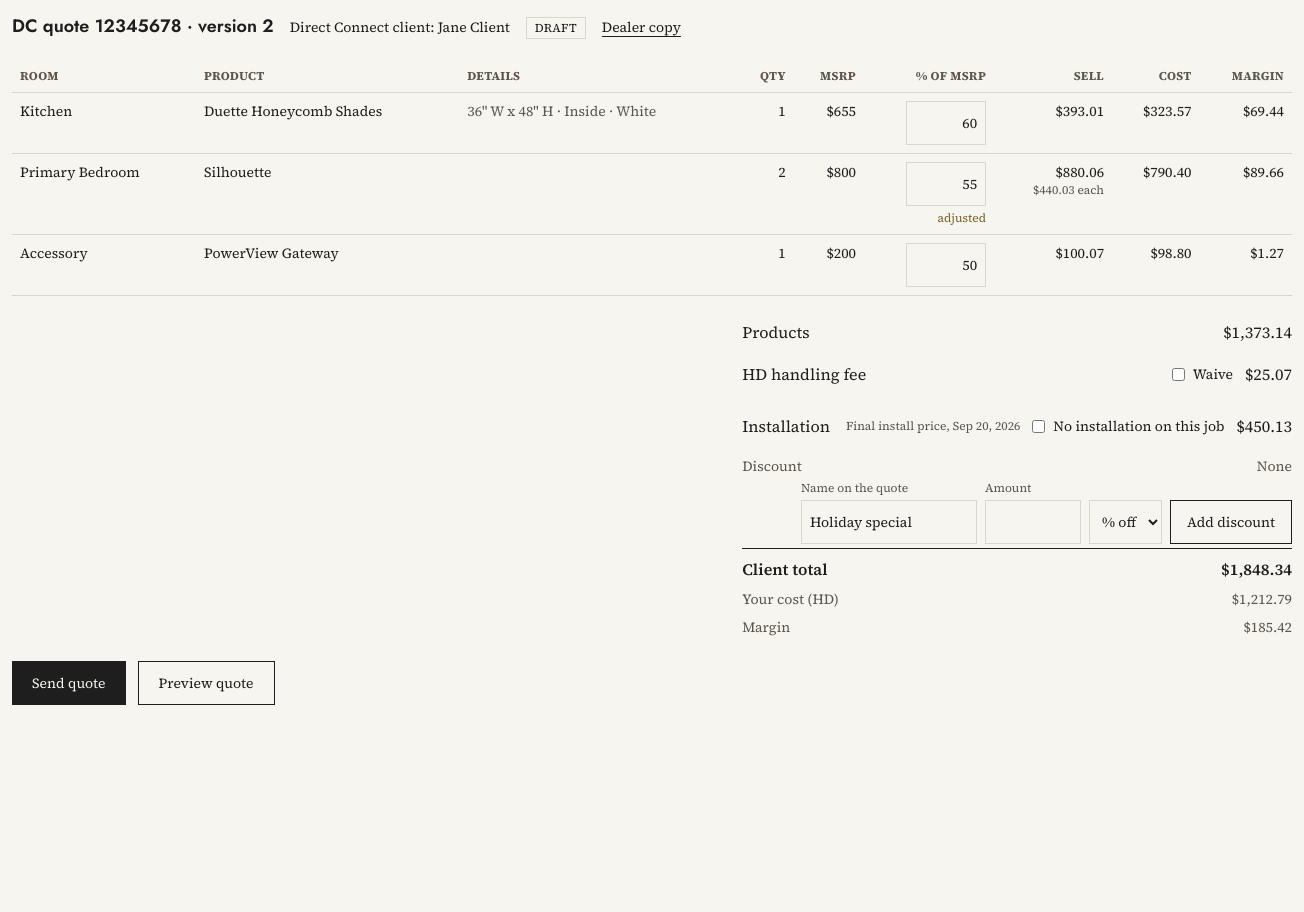
QuoteReview % of MSRP › shows the problem on the line
The width and height of the screenshot is (1304, 912).
Type "abc" into the field named "Line 1 % of MSRP".
click(946, 123); type("abc")  # box left=906, top=101, right=986, bottom=145
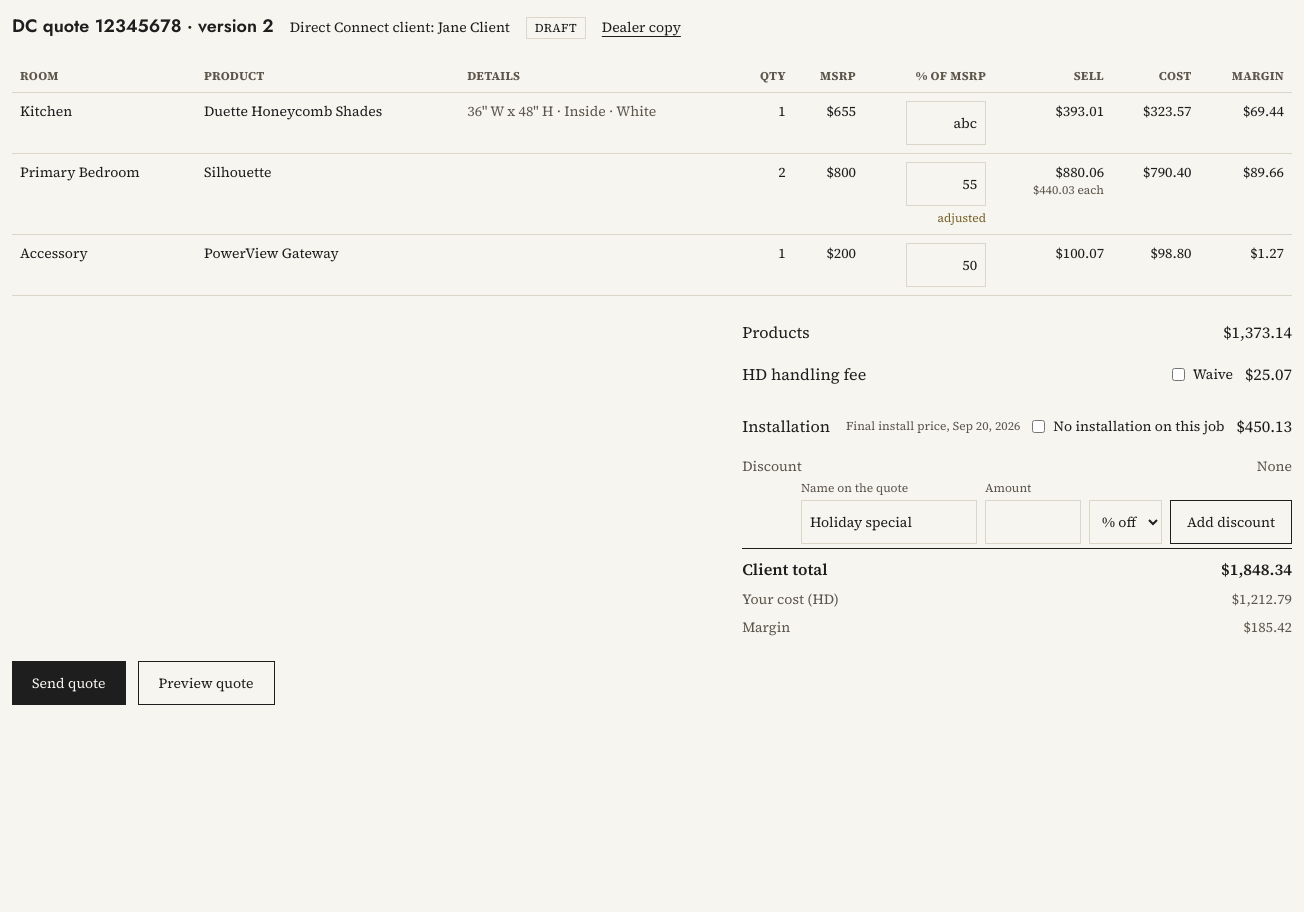
Leave the field named "Line 1 % of MSRP", box left=906, top=101, right=986, bottom=145
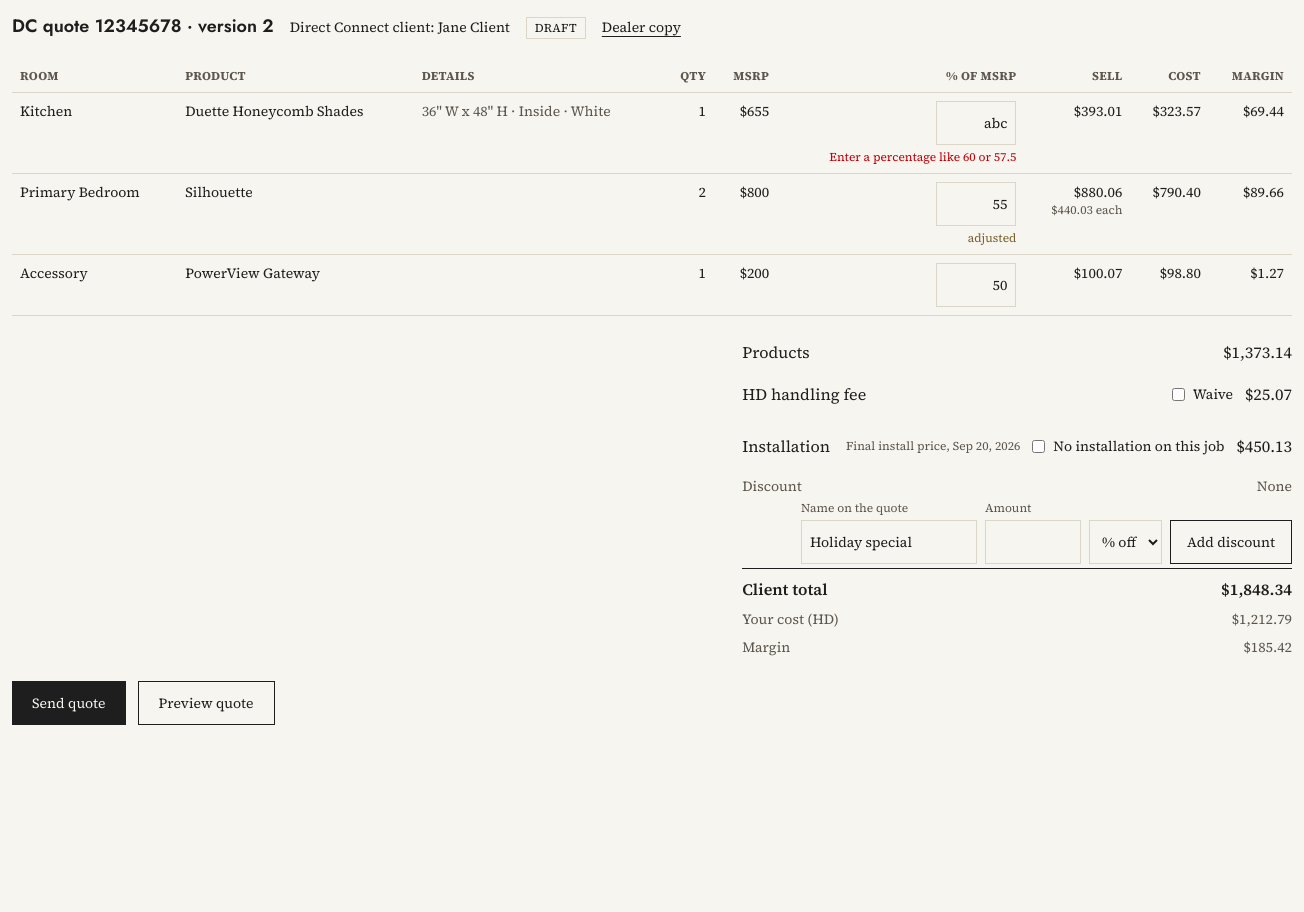
Now the message reads "Enter a percentage like 60 or 57.5", box left=829, top=149, right=1016, bottom=165
